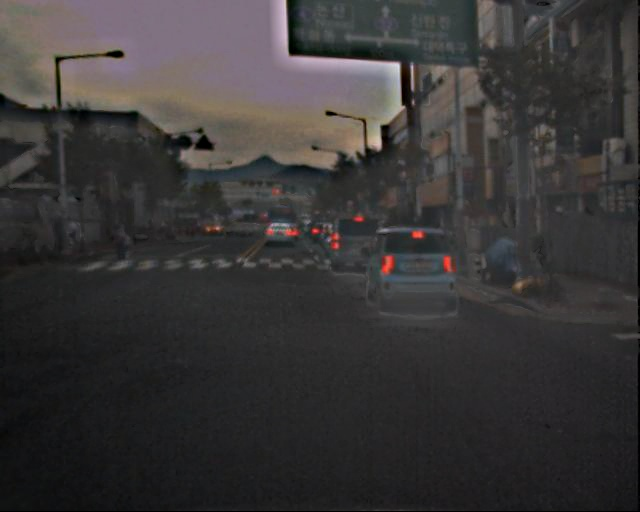person: (54, 217, 86, 255), (113, 221, 133, 262)
